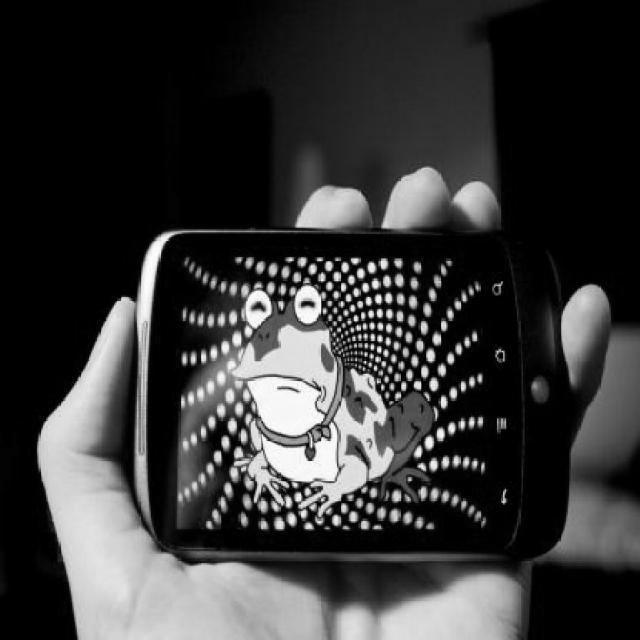fake: (141, 180, 594, 594)
